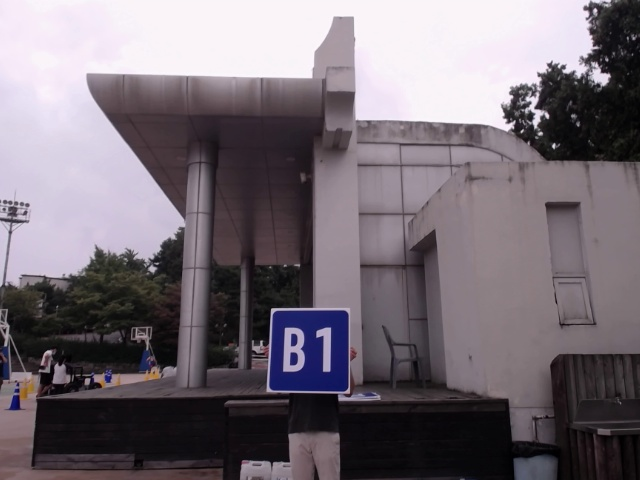delivery_b1: (268, 307, 350, 393)
